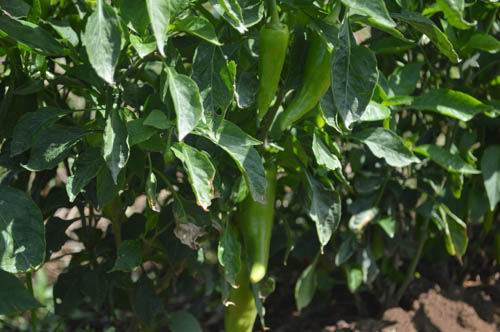ChiliPepper: (285, 35, 334, 148), (238, 165, 280, 285), (250, 29, 285, 124), (225, 268, 256, 332)
